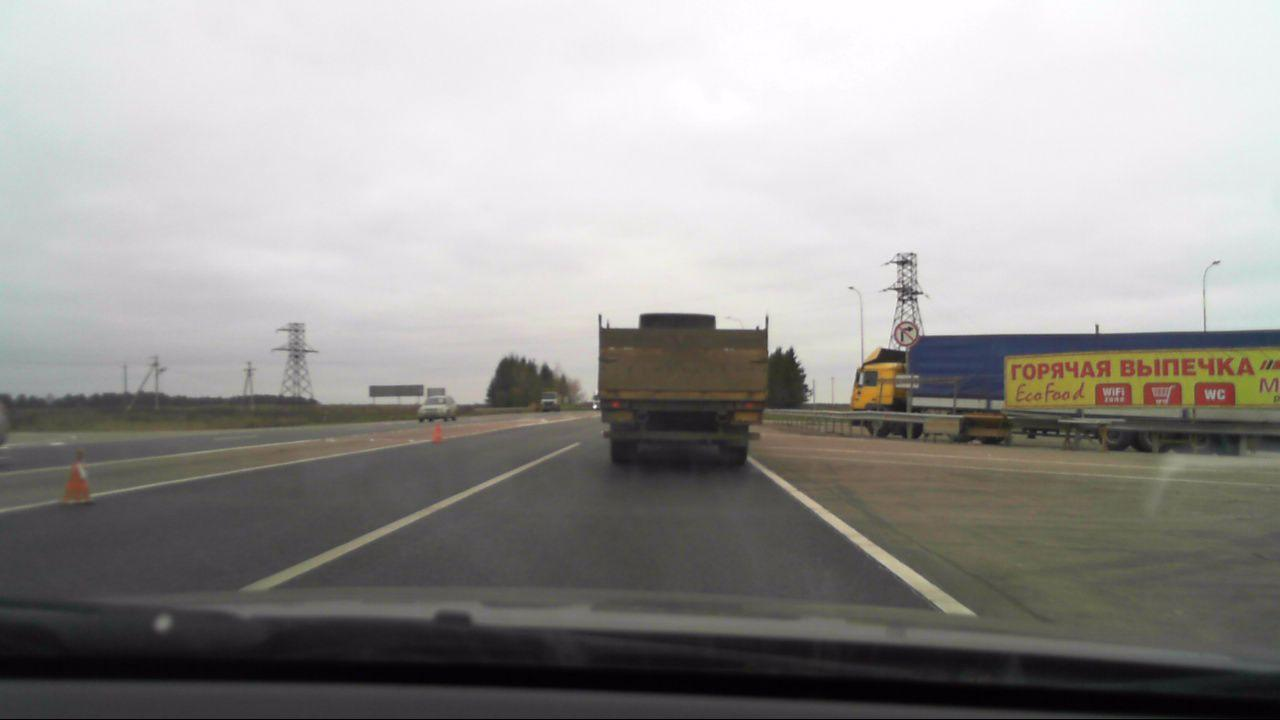3_18_1: (890, 318, 920, 345)
